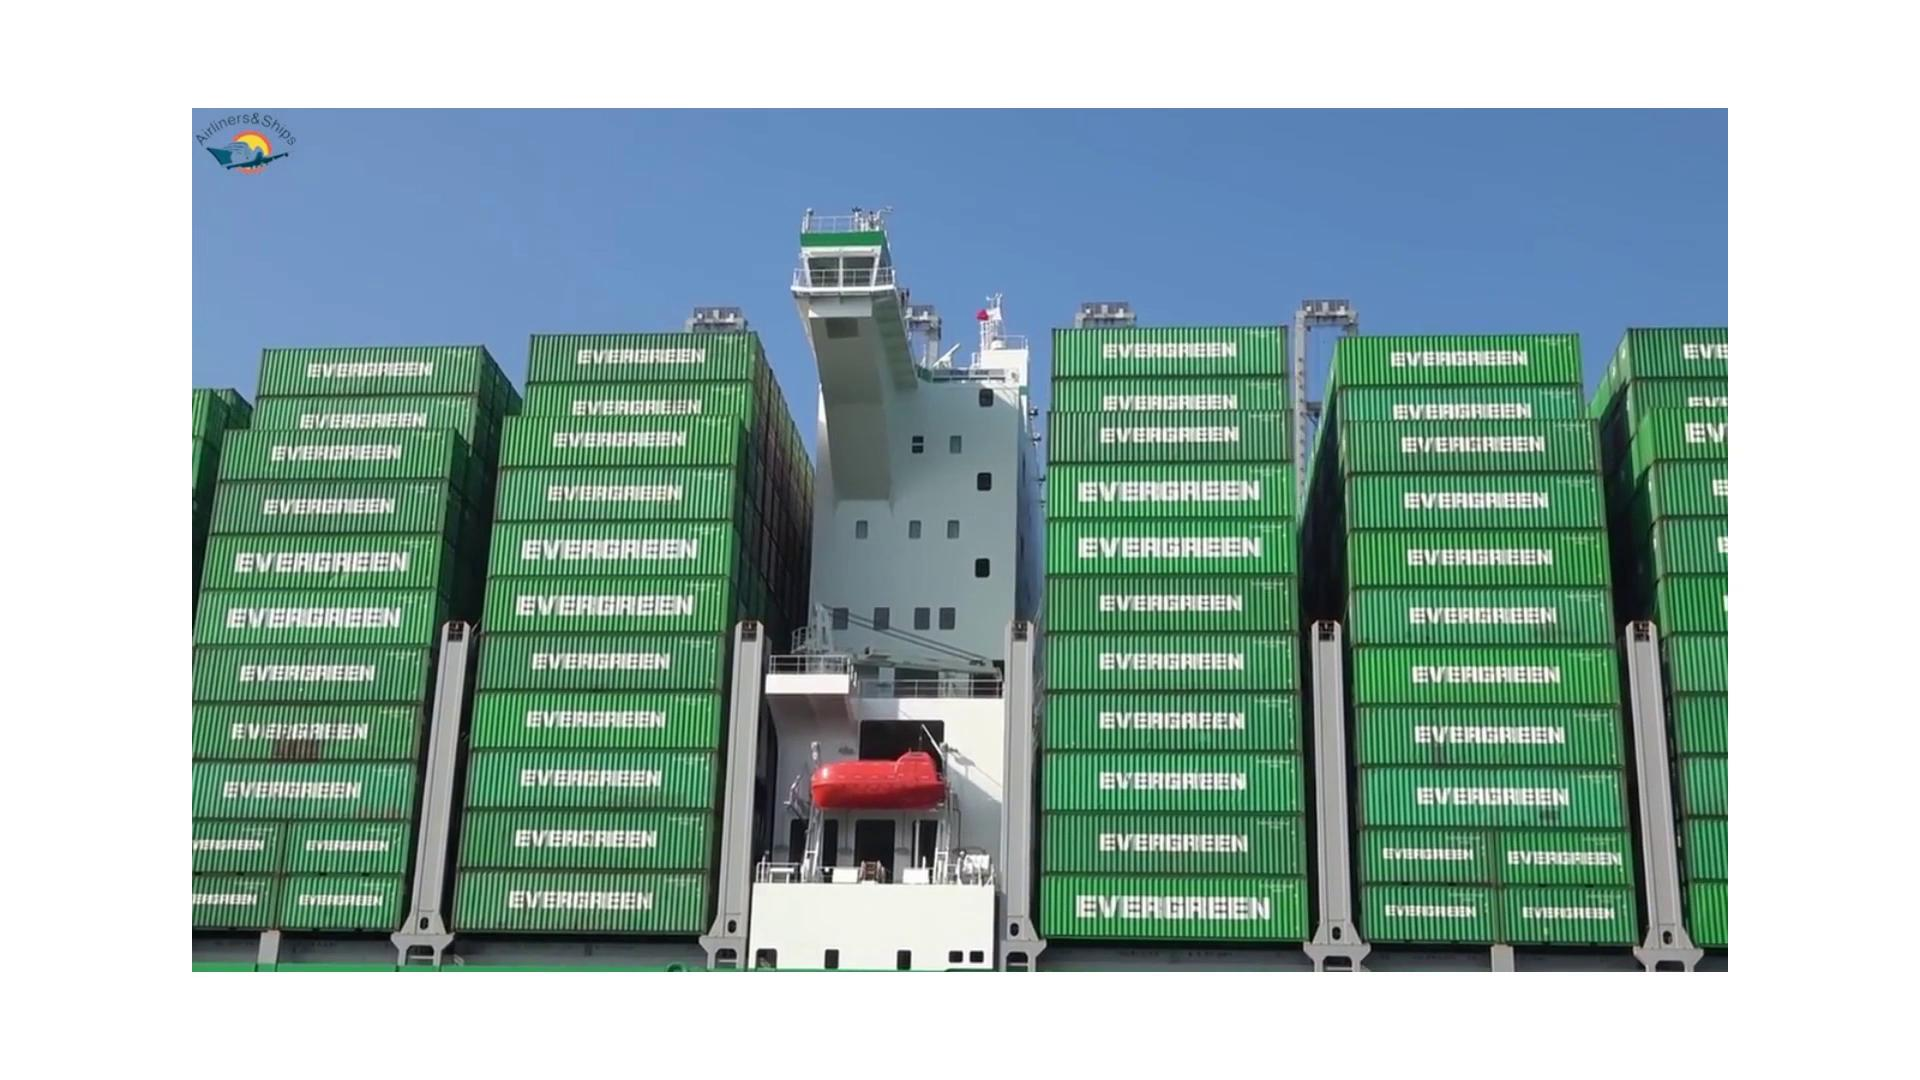OCR: (1058, 870, 1294, 934)
